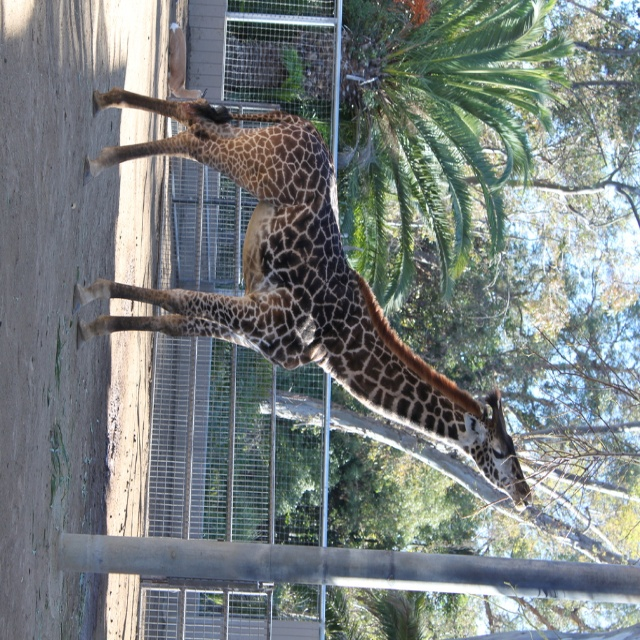Giraffe: (72, 86, 534, 513)
